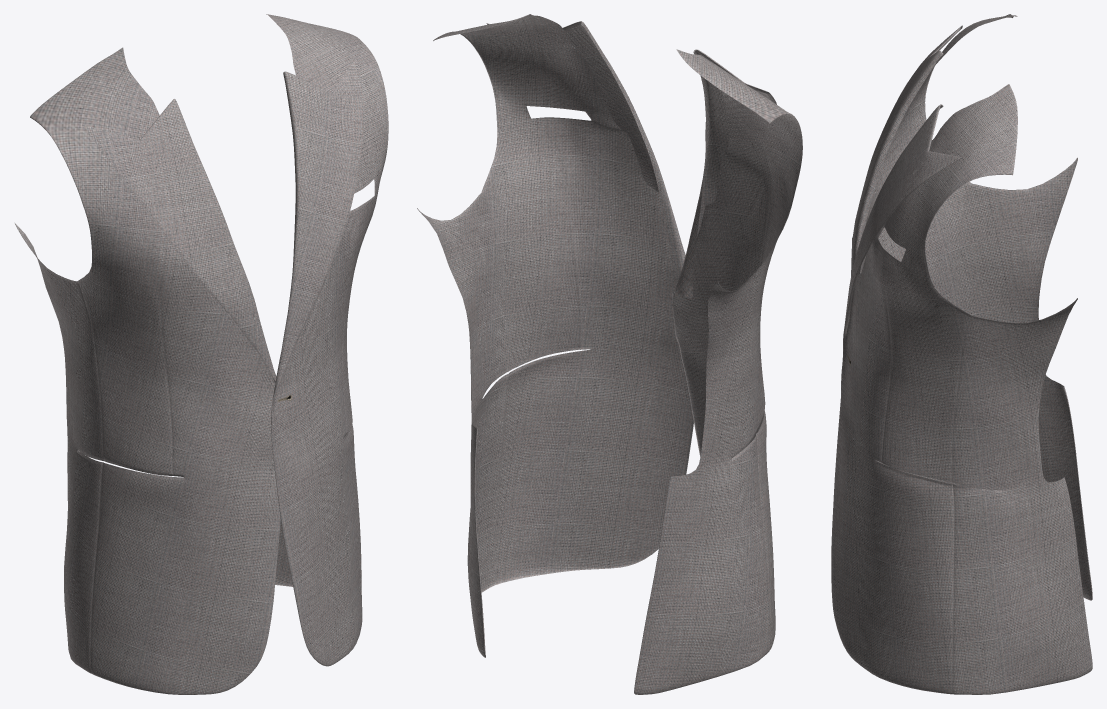
The model's file is peak_single_button_wide.glb.
3 views of the same model, side by side, from view 1: azimuth 30°, elevation 25°; view 2: azimuth 150°, elevation 25°; view 3: azimuth 270°, elevation 25° (orthographic). The views are drawn at different scales.
Visible parts, largest first — view 1: peak_single_button_wide; view 2: peak_single_button_wide; view 3: peak_single_button_wide.
Part boxes in pixels (x1,y1,x2,y2): peak_single_button_wide: [15, 14, 388, 694]; peak_single_button_wide: [417, 14, 802, 694]; peak_single_button_wide: [831, 14, 1092, 694].
Bounding box in the file's own units: 0.0585 × 0.102 × 0.0411.
2 materials, 2 textured.
